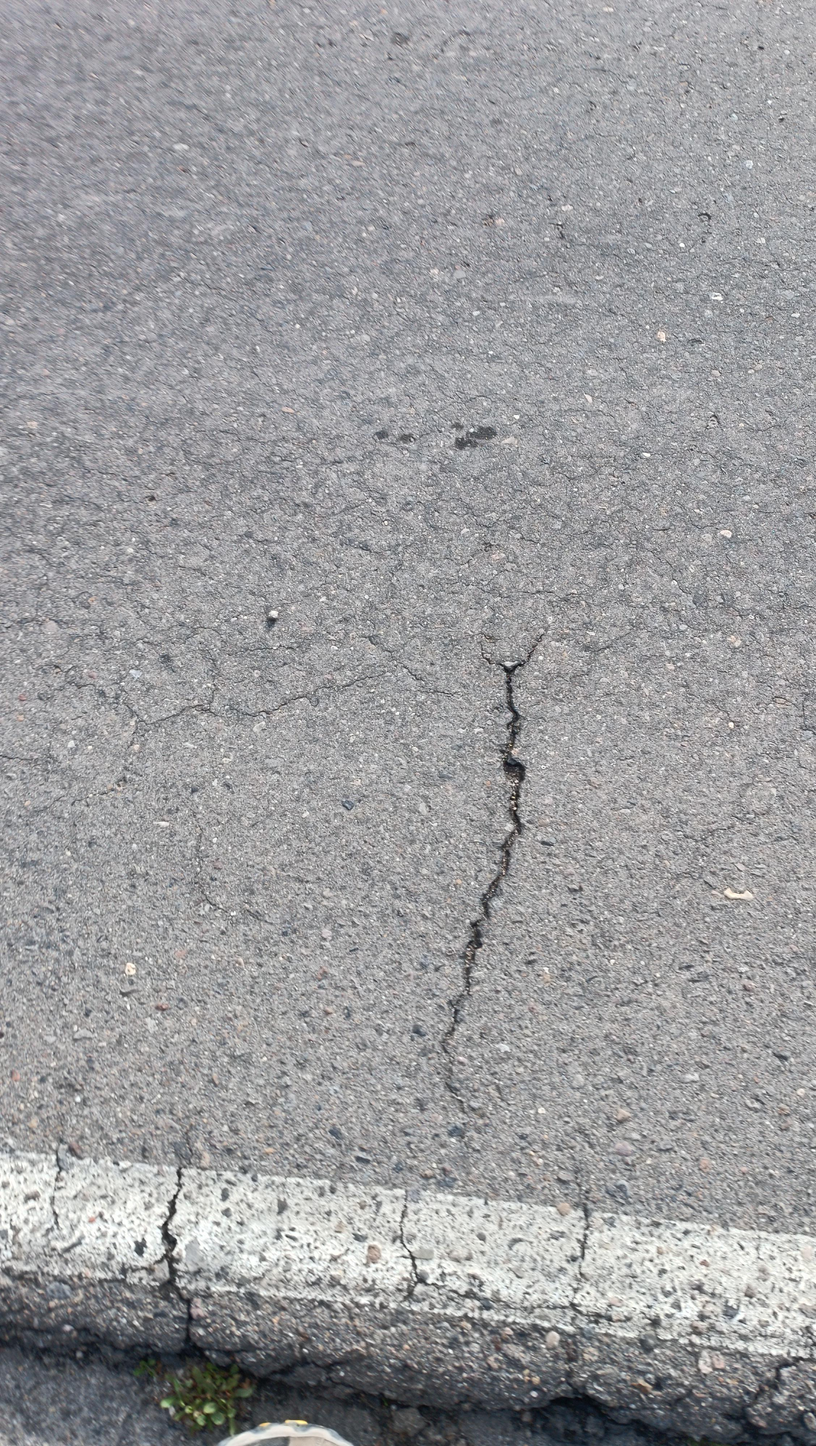GRIETA: (436, 638, 541, 1053), (157, 1168, 195, 1343)
PIEL DE COCODRILO: (0, 212, 810, 833)
